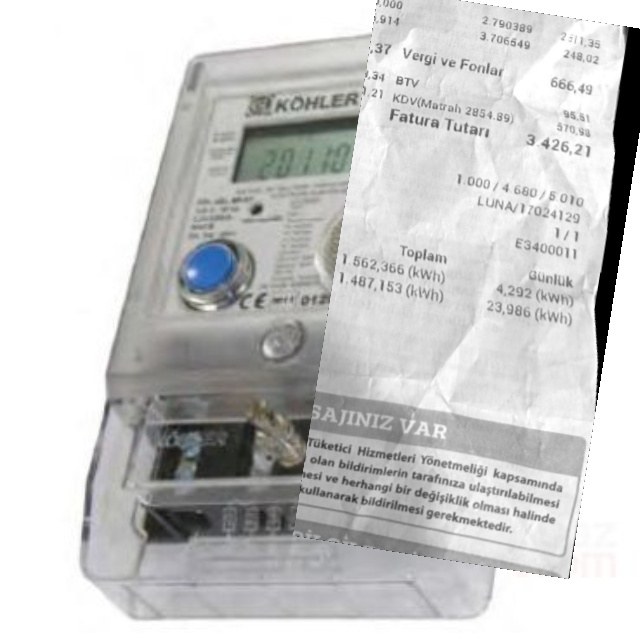electricity-bill: (292, 0, 640, 578)
